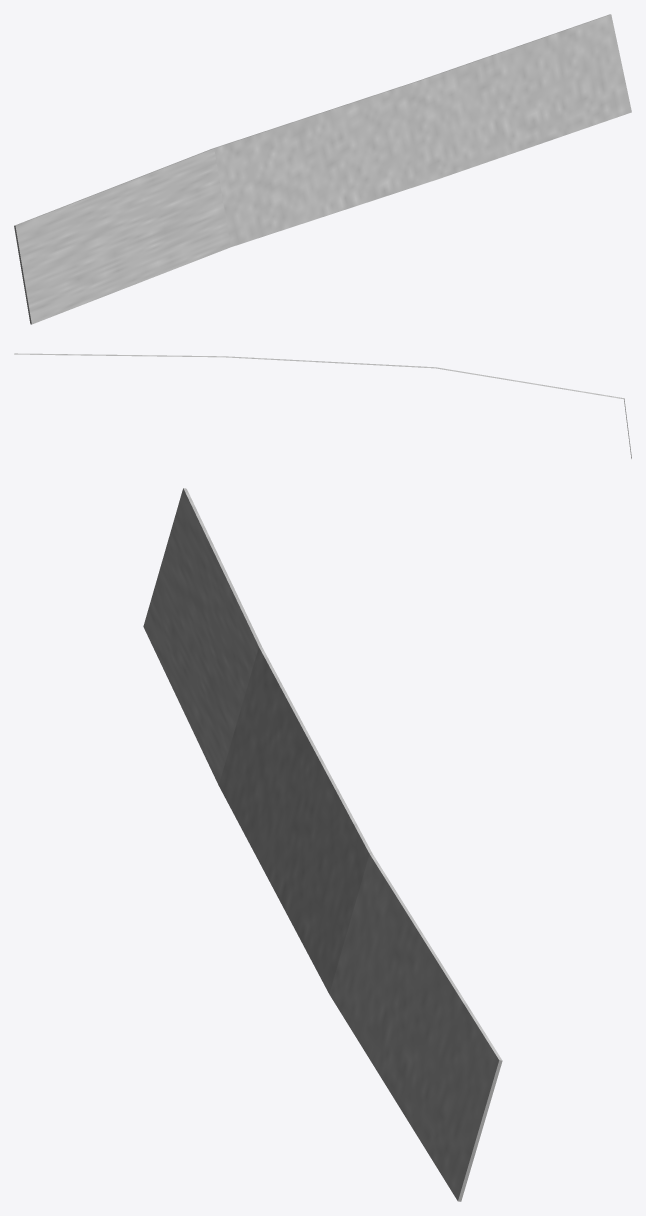
File: Decor_Pocket_Left_V1.glb
3 views of the same model, one above another, from view 1: azimuth 30°, elevation 25°; view 2: azimuth 150°, elevation 25°; view 3: azimuth 270°, elevation 25° (orthographic). The views are drawn at different scales.
Parts seen in each view (by area): view 1: Decor_Pocket_Left_V11; view 2: Decor_Pocket_Left_V11; view 3: Decor_Pocket_Left_V11.
Boxes of the visible parts, <box> form: Decor_Pocket_Left_V11: <box>14,14,631,324</box>; Decor_Pocket_Left_V11: <box>14,353,631,458</box>; Decor_Pocket_Left_V11: <box>143,488,502,1201</box>.
Bounding box in the file's own units: 0.0438 × 0.00771 × 0.0127.
1 material, 1 textured.
